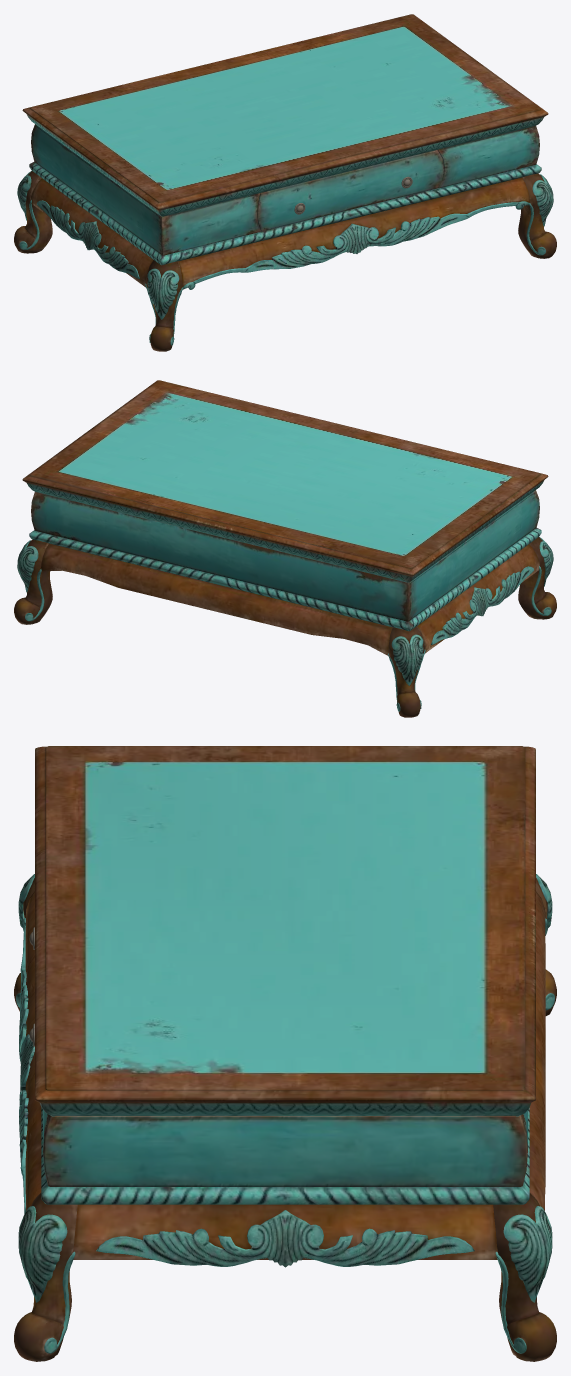
Rendered from coffeetable_01.glb.
The picture shows the model from 3 angles, top to bottom: view 1: azimuth 30°, elevation 25°; view 2: azimuth 150°, elevation 25°; view 3: azimuth 270°, elevation 25°; orthographic projection. The views are drawn at different scales.
Visible parts, largest first — view 1: CoffeeTable_01; view 2: CoffeeTable_01; view 3: CoffeeTable_01.
Part boxes in pixels (x1,y1,x2,y2): CoffeeTable_01: (14, 14, 556, 351); CoffeeTable_01: (14, 380, 556, 717); CoffeeTable_01: (14, 746, 556, 1361).
Bounding box in the file's own units: 1.54 × 0.5232 × 0.9728.
1 material, 1 textured.
